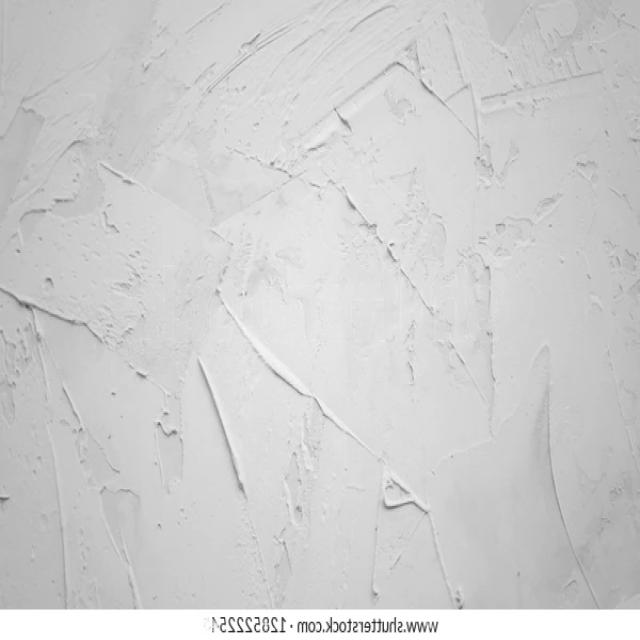rough and patchy surface: (0, 0, 640, 610)
